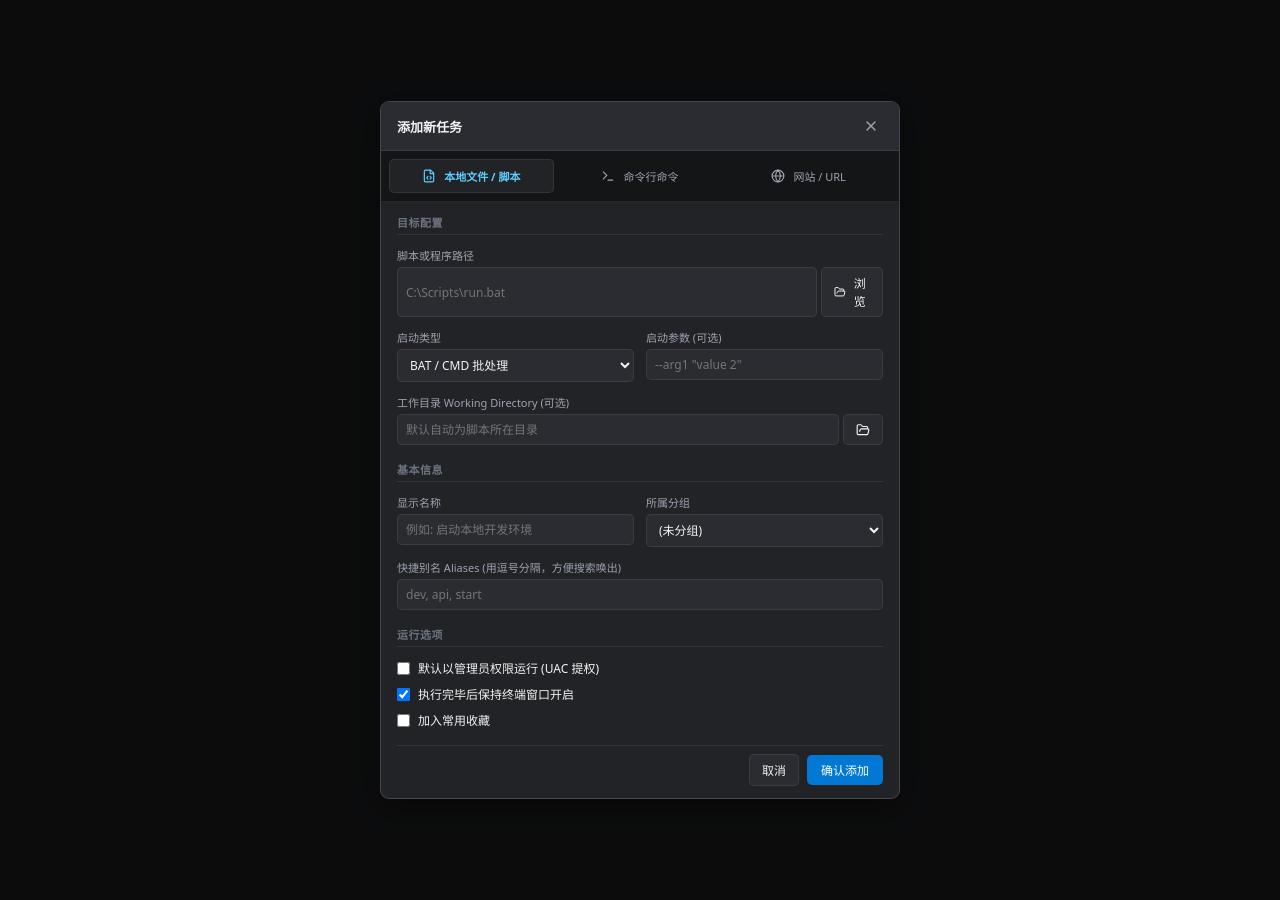
it: TaskEditorDialog › validates empty inputs on submit
The image size is (1280, 900).
Click the button "确认添加": (845, 770) [807,755,883,785]
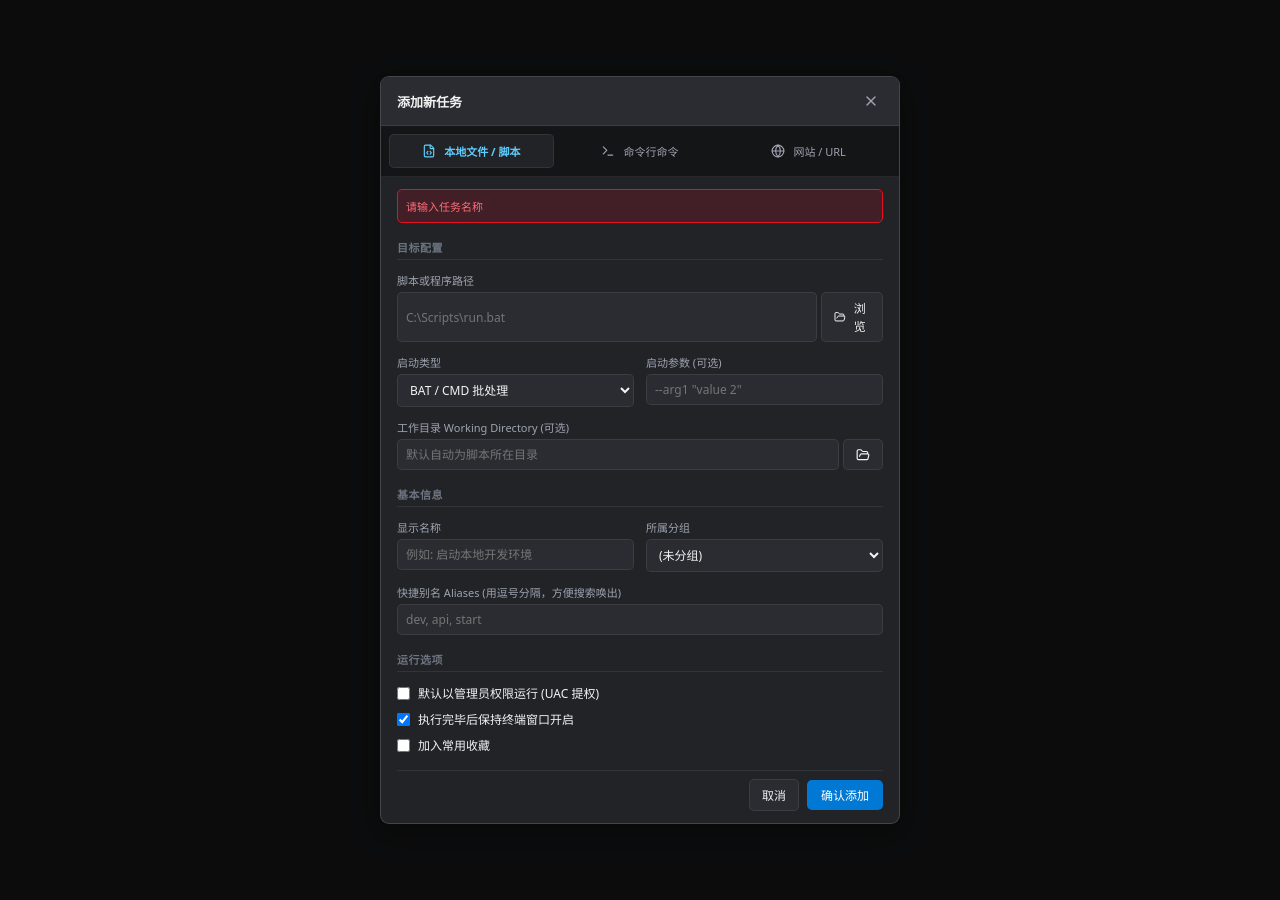
Result: the text "请输入任务名称" is shown at [397,189,883,223]
